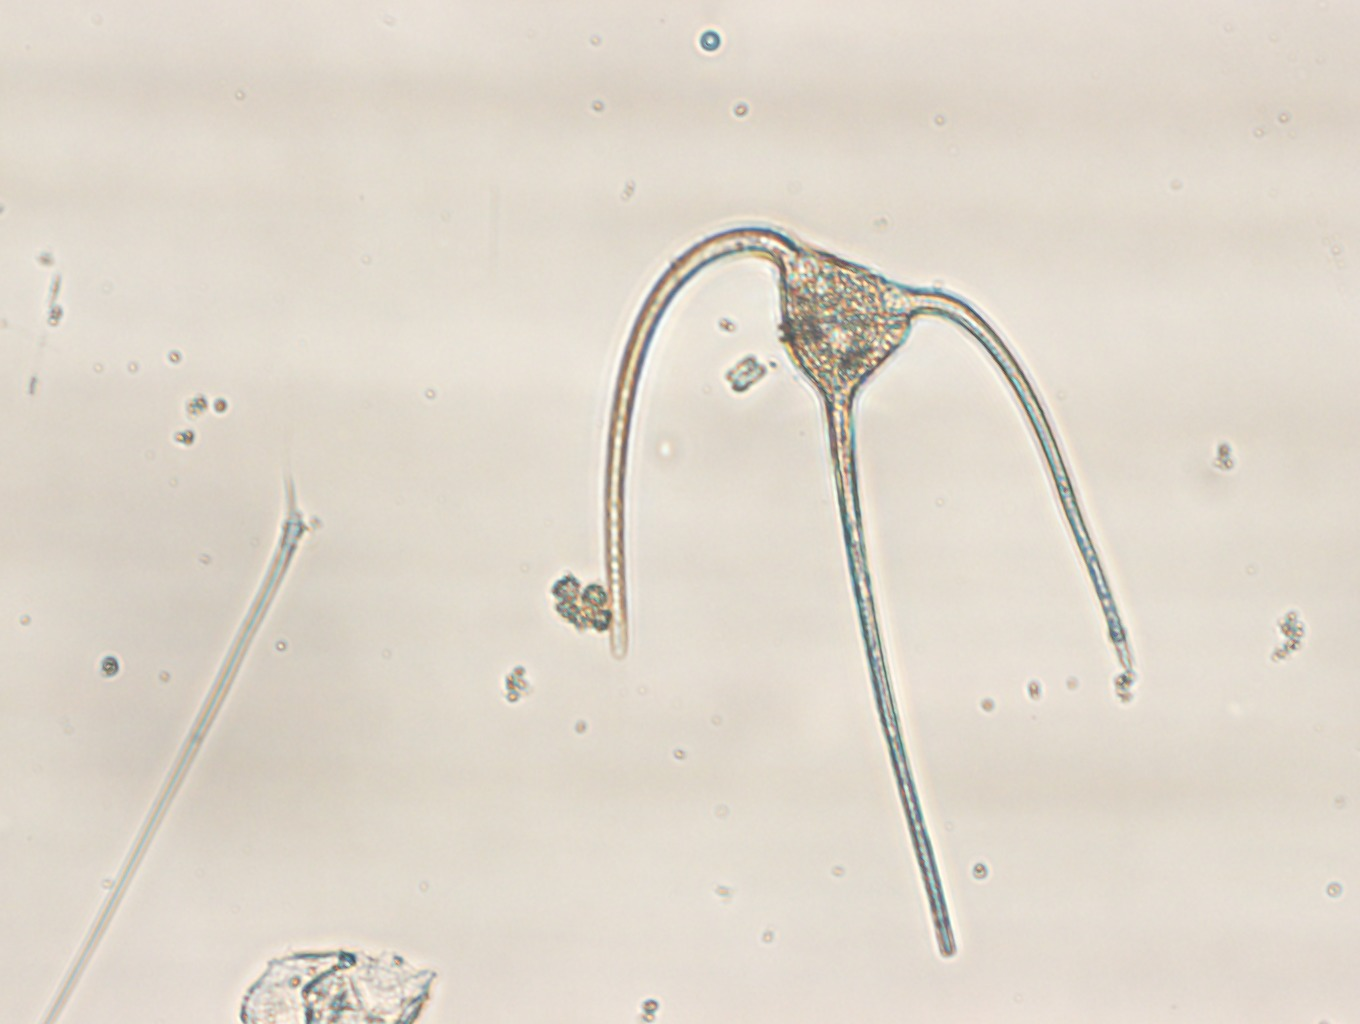ceratium trichoceros: (609, 224, 1131, 957)
